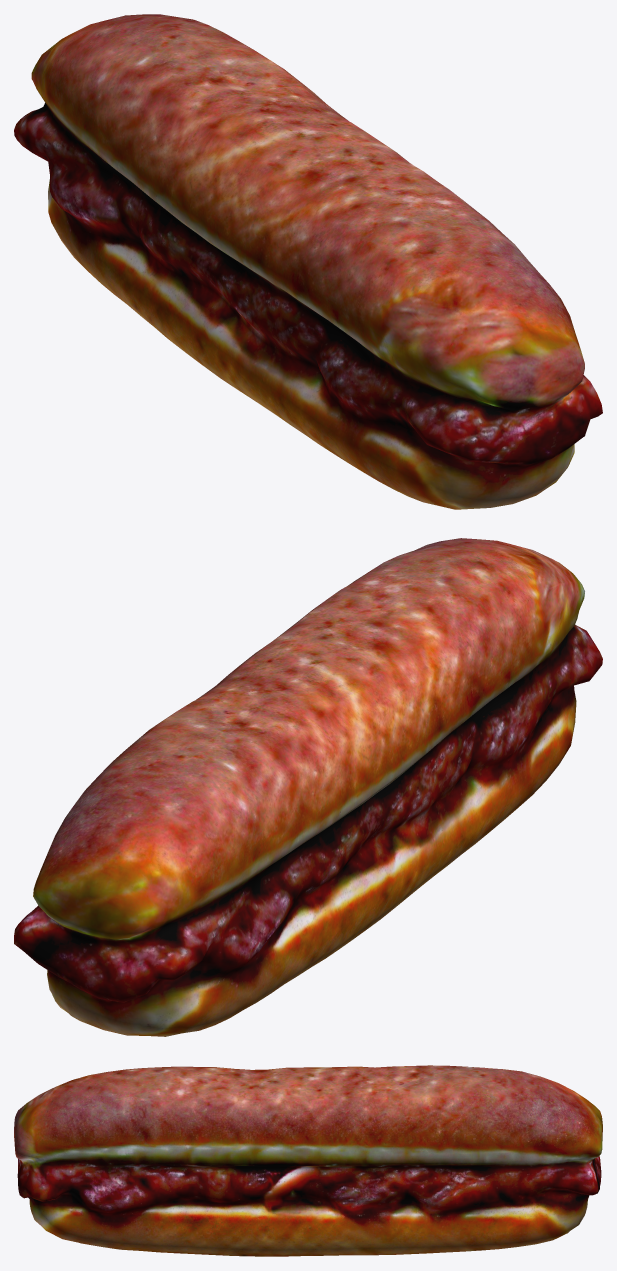
Rendered from carne1.glb.
3 views of the same model, one above another, from view 1: azimuth 30°, elevation 25°; view 2: azimuth 150°, elevation 25°; view 3: azimuth 270°, elevation 25° (orthographic). The views are drawn at different scales.
Visible parts, largest first — view 1: mesh_base_material.004_0; view 2: mesh_base_material.004_0; view 3: mesh_base_material.004_0.
Part boxes in pixels (box(x1,y1,x2,y2)): mesh_base_material.004_0: box(14, 14, 602, 509); mesh_base_material.004_0: box(14, 538, 602, 1036); mesh_base_material.004_0: box(14, 1065, 602, 1256).
Bounding box in the file's own units: 0.7851 × 1 × 3.27.
Materials: 1 (1 with a texture image).
